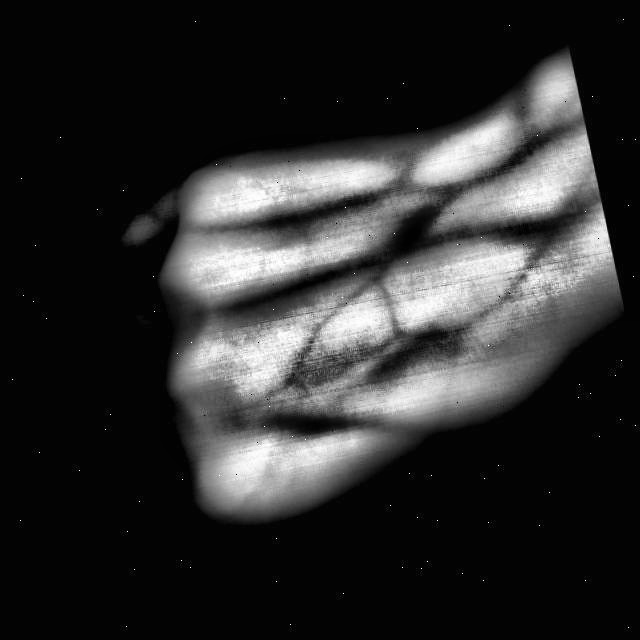Vein: (266, 199, 520, 315)
